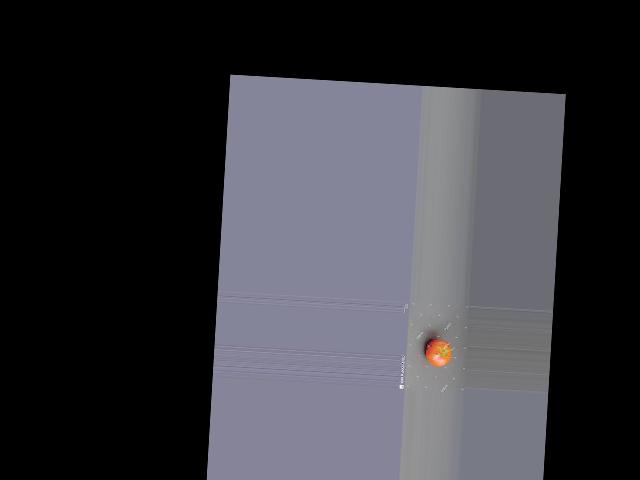tomato: (425, 338, 451, 366)
